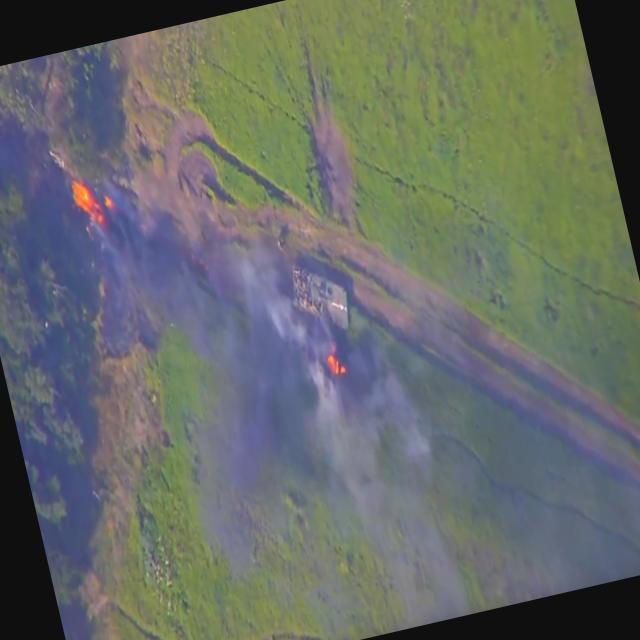AIFV: (284, 250, 358, 346)
